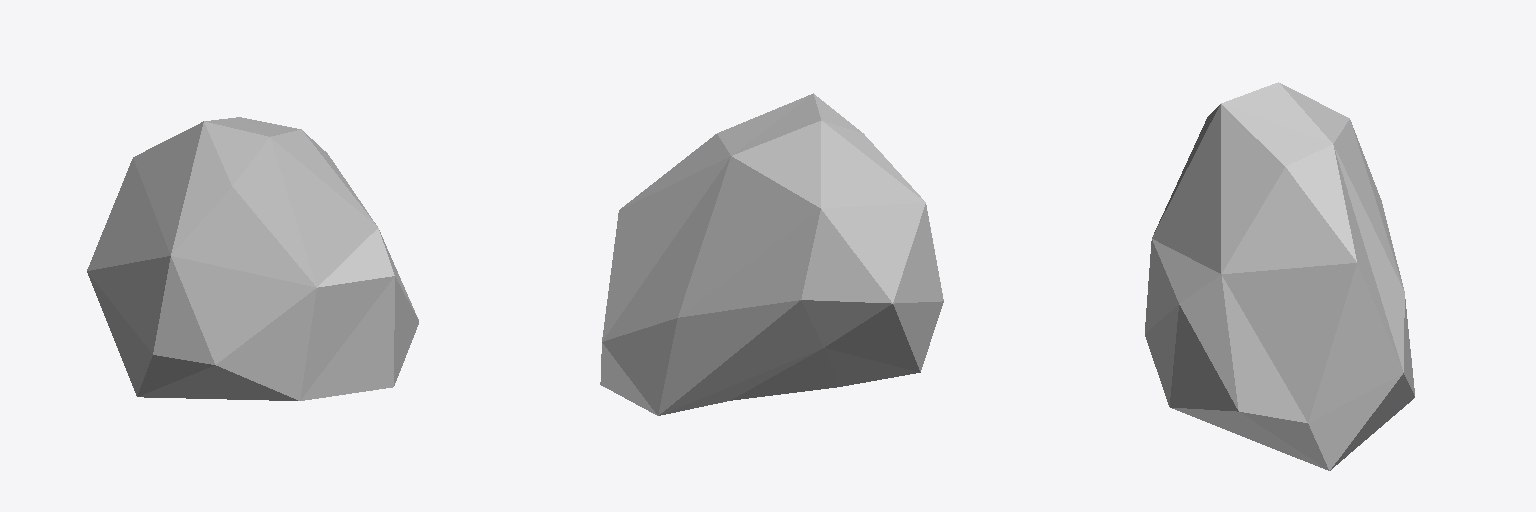
The model's file is plains_rock1.obj.
The picture shows the model from 3 angles: view 1: azimuth 30°, elevation 25°; view 2: azimuth 150°, elevation 25°; view 3: azimuth 270°, elevation 25°; orthographic projection.
Size of the model in its own units: 2.62 by 2.52 by 2.09.